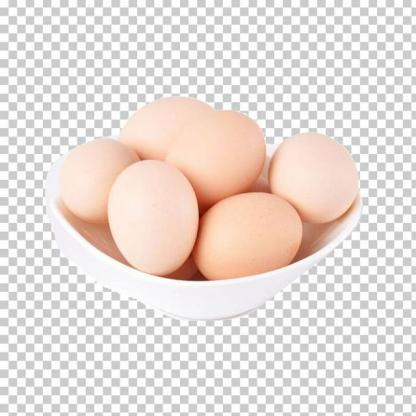egg: (180, 184, 321, 291), (110, 150, 206, 280), (101, 74, 225, 171), (57, 125, 162, 233), (164, 99, 266, 208), (271, 120, 367, 232)
